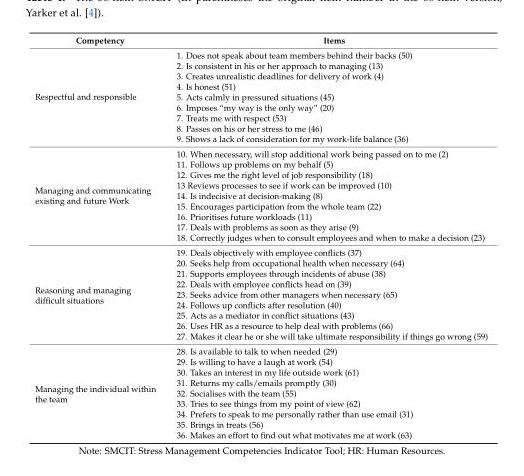table: (34, 34, 487, 439)
table column: (165, 34, 487, 439), (34, 34, 165, 439)
table column header: (34, 34, 487, 47)
table row: (34, 34, 487, 47), (34, 145, 487, 158), (34, 231, 487, 244), (34, 244, 487, 257), (34, 330, 487, 343), (34, 47, 487, 59), (34, 133, 487, 145), (34, 343, 487, 355), (34, 59, 487, 70), (34, 80, 487, 91), (34, 101, 487, 112), (34, 122, 487, 133), (34, 158, 487, 169), (34, 189, 487, 200), (34, 210, 487, 221), (34, 267, 487, 278), (34, 288, 487, 299), (34, 309, 487, 320), (34, 355, 487, 366), (34, 376, 487, 387), (34, 397, 487, 408), (34, 418, 487, 429), (34, 70, 487, 80), (34, 91, 487, 101), (34, 112, 487, 122), (34, 169, 487, 179), (34, 179, 487, 189), (34, 200, 487, 210), (34, 221, 487, 231), (34, 257, 487, 267), (34, 278, 487, 288), (34, 299, 487, 309), (34, 320, 487, 330), (34, 366, 487, 376), (34, 387, 487, 397), (34, 408, 487, 418), (34, 429, 487, 439)
table spanning cell: (34, 145, 165, 244), (34, 244, 165, 343), (34, 47, 165, 145), (34, 343, 165, 439)
